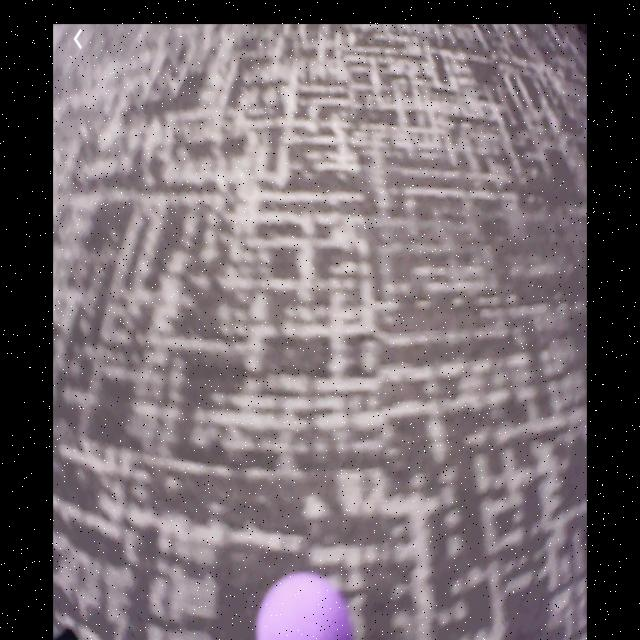ball: (257, 572, 351, 640)
